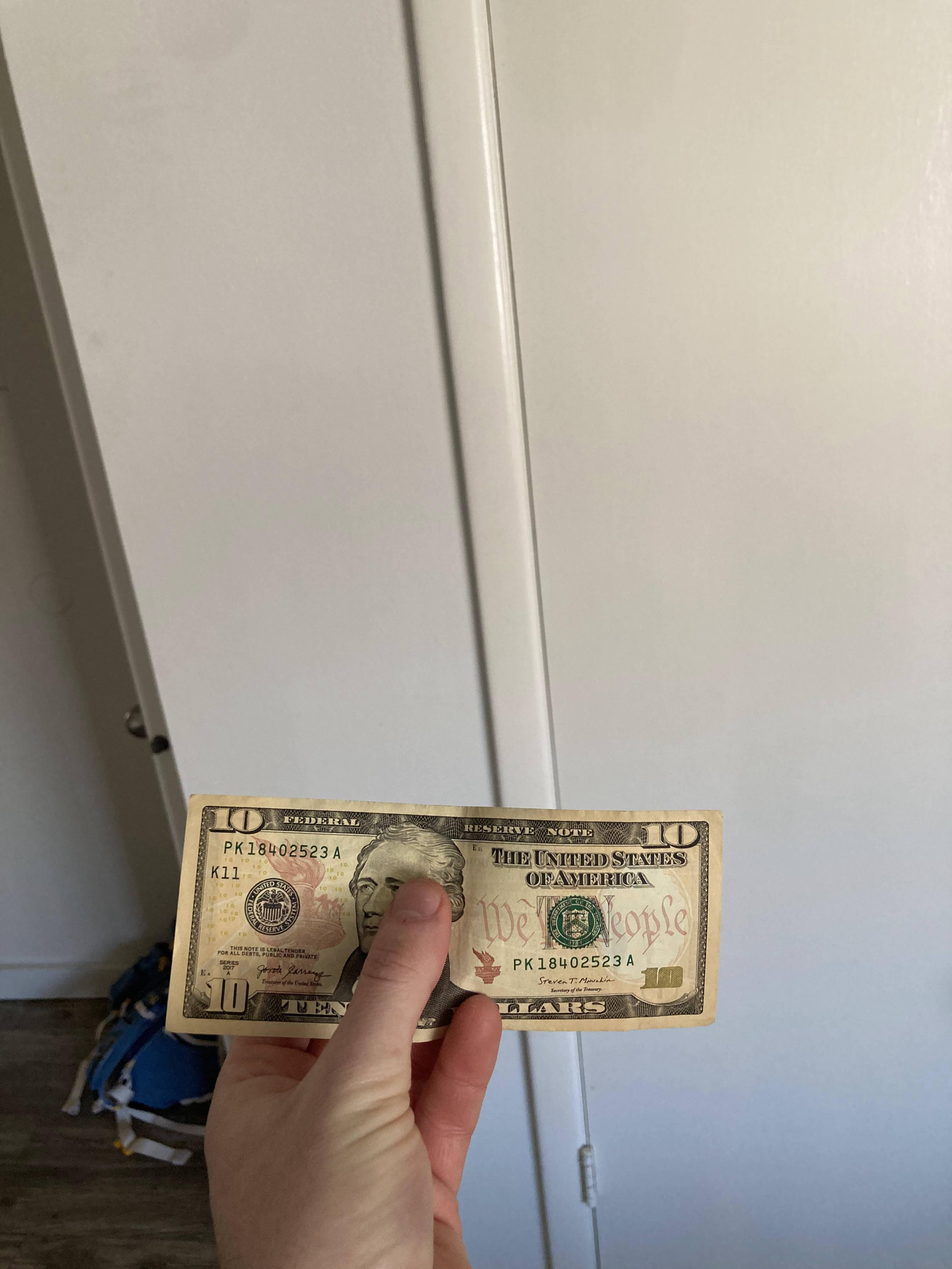ten-front: (162, 796, 726, 1035)
